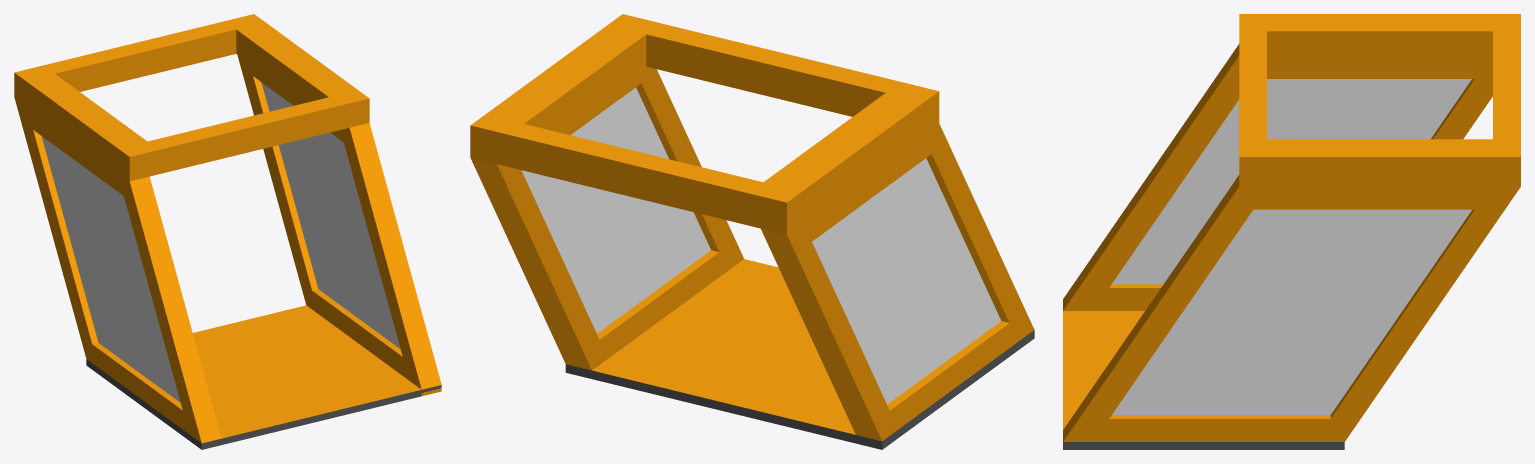
File: Decorations_Rampfbx.fbx
The picture shows the model from 3 angles, left to right: view 1: azimuth 30°, elevation 25°; view 2: azimuth 150°, elevation 25°; view 3: azimuth 270°, elevation 25°; orthographic projection. The views are drawn at different scales.
Visible parts, largest first — view 1: StairCube; view 2: StairCube; view 3: StairCube.
Boxes of the visible parts, <box> form: StairCube: <box>14,14,441,449</box>; StairCube: <box>470,14,1034,449</box>; StairCube: <box>1063,14,1520,449</box>.
Size of the model in its own units: 960 by 918 by 1300.
1 material, 1 textured.
